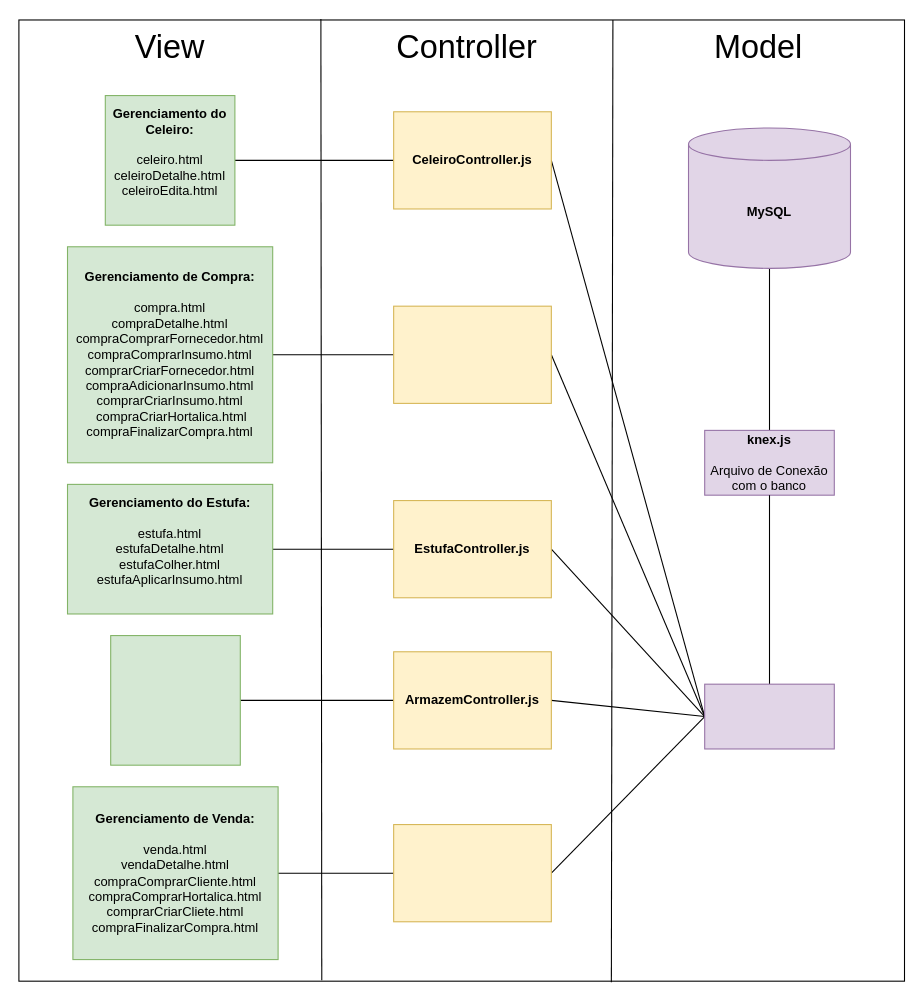
This 923x1002 diagram has some shape labels left out. Each missing label, with the centre of its shape:
"CompraController.js" belongs at point (472, 354).
"Gerenciamento do Armazém : armazem.html armazemDetalhe.html armazemEdita.html" belongs at point (175, 699).
"index.js Arquivo de chamada da conexão" belongs at point (769, 716).
"VendaController.js" belongs at point (472, 873).
